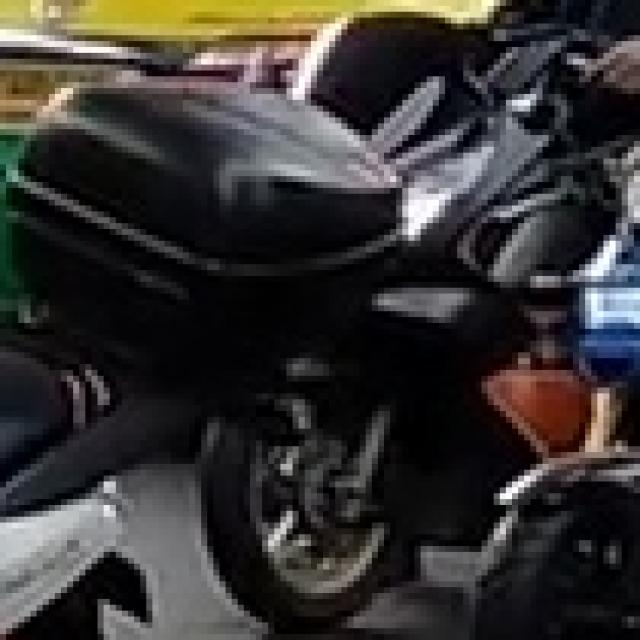door: (0, 0, 634, 634)
tyre: (195, 388, 415, 628)
